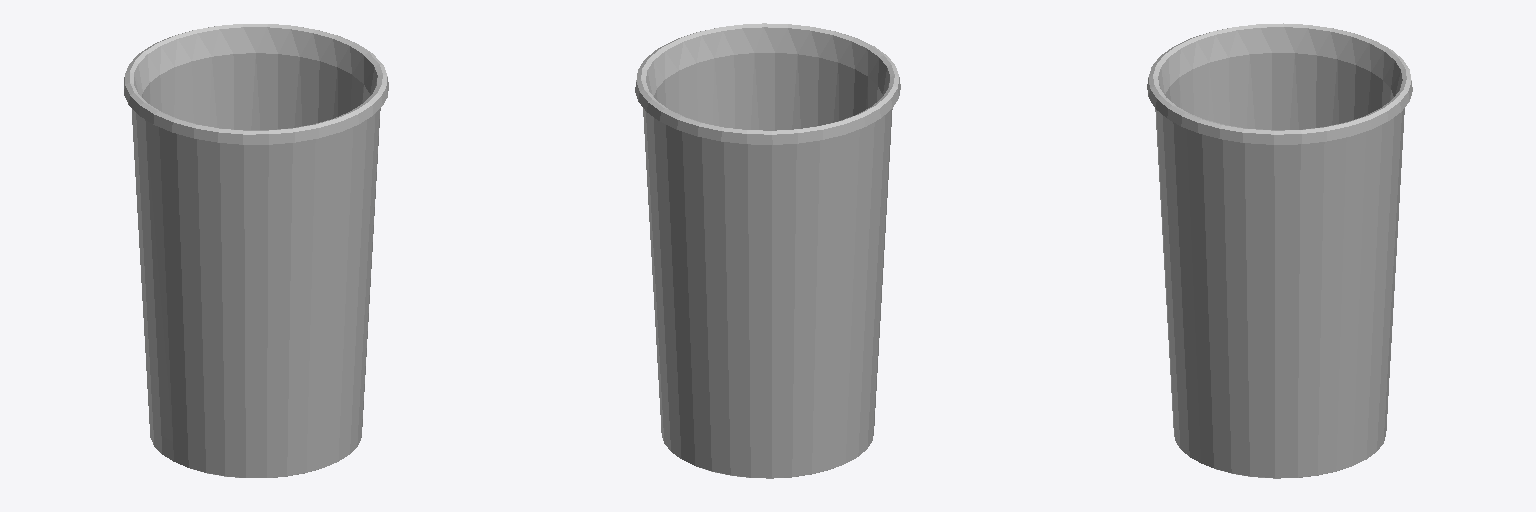
The model's file is Plastic_Cup-(Wavefront OBJ).obj.
3 views of the same model, side by side, from view 1: azimuth 30°, elevation 25°; view 2: azimuth 150°, elevation 25°; view 3: azimuth 270°, elevation 25° (orthographic).
Parts seen in each view (by area): view 1: 网格; view 2: 网格; view 3: 网格.
Boxes of the visible parts, <box> form: 网格: <box>124,24,388,477</box>; 网格: <box>635,23,900,478</box>; 网格: <box>1147,23,1412,478</box>.
Bounding box in the file's own units: 0.0769 × 0.1143 × 0.077.